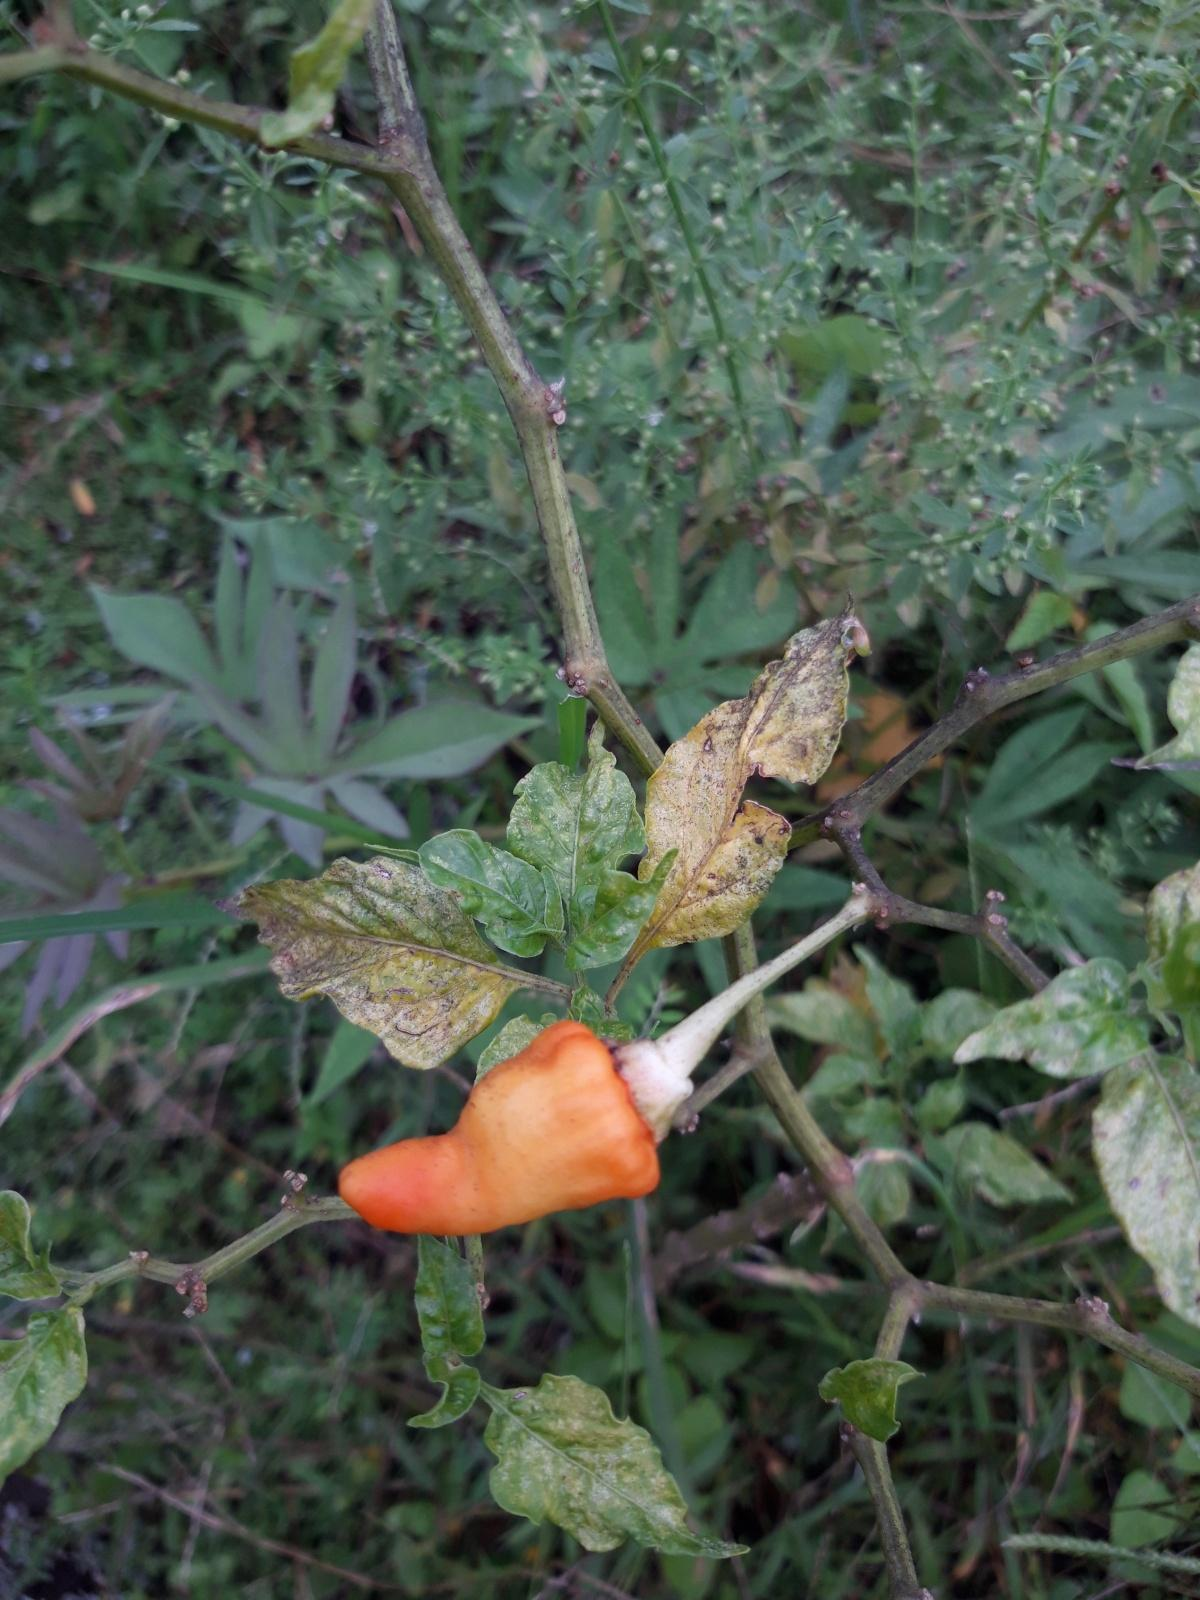cabai_normal: (339, 1020, 658, 1236)
